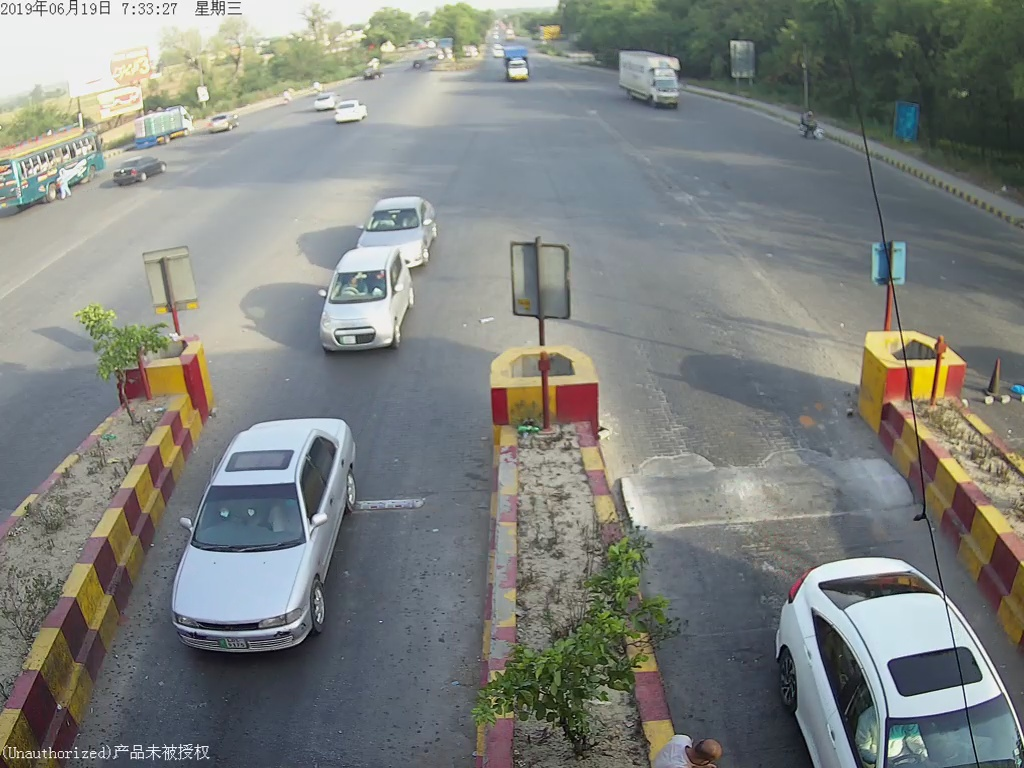Cat-1: (168, 430, 363, 656), (312, 251, 410, 349)
